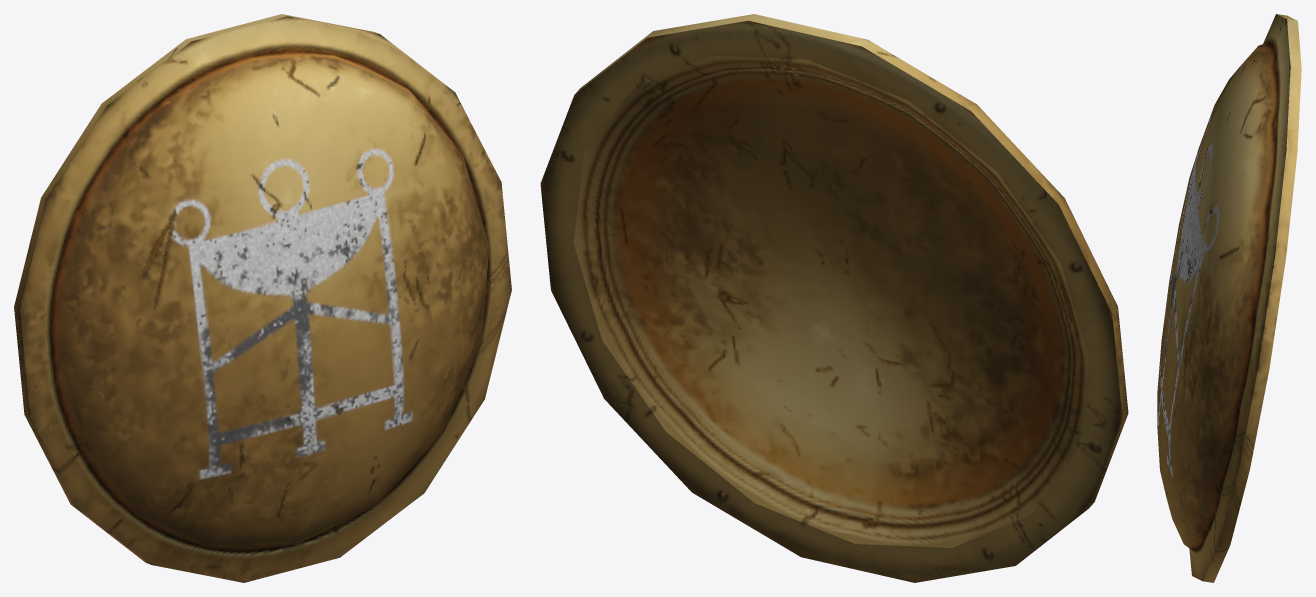
Rendered from shield.glb.
The picture shows the model from 3 angles, left to right: view 1: azimuth 30°, elevation 25°; view 2: azimuth 150°, elevation 25°; view 3: azimuth 270°, elevation 25°; orthographic projection. The views are drawn at different scales.
Bounding box in the file's own units: 2.02 × 1.99 × 0.5116.
2 materials, 2 textured.
